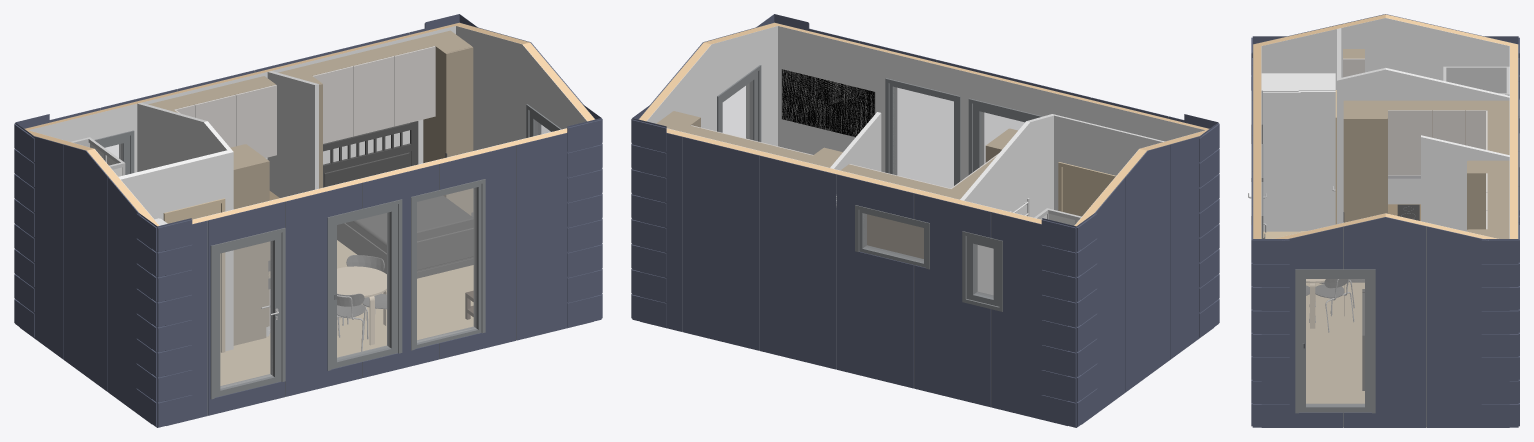
File: Airijaa lovaa.fbx
3 views of the same model, side by side, from view 1: azimuth 30°, elevation 25°; view 2: azimuth 150°, elevation 25°; view 3: azimuth 270°, elevation 25° (orthographic). The views are drawn at different scales.
Parts seen in each view (by area): view 1: IfcBuildingElementProxy/Kampai Kvadratiniai - line based:Mu. (×4), IfcFurnishingElement/Sorento G60(100) (Pakabinama):Sorento . (×4), IfcWindow/Langai (Akrusta):1000x2100x120 (kairinis):2750757, IfcDoor/Durys išorinės:1000x2100x120 (kairinės):2439432, IfcWindow/Langai (Akrusta):1000x2100x120:2761594, IfcPlate/System Panel:Sandwich užbaigimas Multisplit:3006171, IfcPlate/System Panel:Sandwich užbaigimas Multisplit:3006206, IfcPlate/System Panel:Sandwich užbaigimas Multisplit:3006178, IfcFurnishingElement/Lova (BED) IKEA:Full Size - Black/Brown, IfcPlate/System Panel:Sandwich užbaigimas Multisplit:3006174, IfcWall/Part:2397151, IfcSlab/Part:2319985 (+22 smaller); view 2: IfcBuildingElementProxy/Kampai Kvadratiniai - line based:Mu. (×3), IfcPlate/System Panel:Sandwich užbaigimas Multisplit:3006146, IfcPlate/System Panel:Sandwich užbaigimas Multisplit:3006144, IfcWall/Part:2319976, IfcPlate/System Panel:Sandwich užbaigimas Multisplit:3006142, IfcPlate/System Panel:Sandwich užbaigimas Multisplit:3006140, IfcPlate/System Panel:Sandwich užbaigimas Multisplit:3006206, IfcPlate/System Panel:Sandwich užbaigimas Multisplit:3006137, IfcBuildingElementProxy/Kampai Kvadratiniai - line based:Mu, IfcWindow/Langai (Akrusta):1000x2100x120:2761594, IfcWall/Part:2397151, IfcWallStandardCase/Basic Wall:Sandwich - vidines sienos 60m (+17 smaller); view 3: IfcPlate/System Panel:Sandwich užbaigimas Multisplit:3006122, IfcWindow/Langai (Akrusta):1000x2100x120 (kairinis):3004067, IfcFurnishingElement/Ikea spinta:900 x 600 x 2100mm 2:276165, IfcPlate/System Panel:Sandwich užbaigimas Multisplit:3006119, IfcWall/Part:2755461, IfcBuildingElementProxy/Kampai Kvadratiniai - line based:Mu. (×2), IfcBuildingElementProxy/Kampai Kvadratiniai - line based:Mul, IfcFurnishingElement/Sorento D60ZLN (Su šaldytuvu)1:Sorento  (×2), IfcSlab/Part:2319985, IfcWallStandardCase/Basic Wall:Sandwich - vidines sienos 60m, IfcFurnishingElement/Sorento G60(100) (Pakabinama):Sorento G (×3), IfcWallStandardCase/Basic Wall:Sandwich - vidines sienos 60 (+15 smaller).
Boxes of the visible parts, x1,y1,x2,y2 form: IfcBuildingElementProxy/Kampai Kvadratiniai - line based:Mu. (×4): (14, 118, 602, 427); IfcFurnishingElement/Sorento G60(100) (Pakabinama):Sorento . (×4): (183, 37, 435, 157); IfcWindow/Langai (Akrusta):1000x2100x120 (kairinis):2750757: (327, 199, 402, 370); IfcDoor/Durys išorinės:1000x2100x120 (kairinės):2439432: (210, 228, 285, 399); IfcWindow/Langai (Akrusta):1000x2100x120:2761594: (411, 179, 485, 350); IfcPlate/System Panel:Sandwich užbaigimas Multisplit:3006171: (516, 133, 593, 340); IfcPlate/System Panel:Sandwich užbaigimas Multisplit:3006206: (63, 144, 107, 391); IfcPlate/System Panel:Sandwich užbaigimas Multisplit:3006178: (285, 183, 361, 396); IfcFurnishingElement/Lova (BED) IKEA:Full Size - Black/Brown: (323, 121, 473, 278); IfcPlate/System Panel:Sandwich užbaigimas Multisplit:3006174: (439, 145, 516, 359); IfcWall/Part:2397151: (456, 26, 586, 217); IfcSlab/Part:2319985: (220, 240, 473, 385); IfcBuildingElementProxy/Kampai Kvadratiniai - line based:Mu. (×3): (1041, 122, 1219, 427); IfcPlate/System Panel:Sandwich užbaigimas Multisplit:3006146: (682, 137, 759, 350); IfcPlate/System Panel:Sandwich užbaigimas Multisplit:3006144: (760, 155, 836, 369); IfcWall/Part:2319976: (778, 26, 1204, 180); IfcPlate/System Panel:Sandwich užbaigimas Multisplit:3006142: (837, 174, 913, 388); IfcPlate/System Panel:Sandwich užbaigimas Multisplit:3006140: (914, 193, 990, 407); IfcPlate/System Panel:Sandwich užbaigimas Multisplit:3006206: (1125, 144, 1169, 392); IfcPlate/System Panel:Sandwich užbaigimas Multisplit:3006137: (991, 212, 1068, 425); IfcBuildingElementProxy/Kampai Kvadratiniai - line based:Mu: (631, 118, 666, 326); IfcWindow/Langai (Akrusta):1000x2100x120:2761594: (885, 78, 960, 187); IfcWall/Part:2397151: (647, 26, 777, 146); IfcWallStandardCase/Basic Wall:Sandwich - vidines sienos 60m: (960, 114, 1055, 294); IfcPlate/System Panel:Sandwich užbaigimas Multisplit:3006122: (1343, 217, 1426, 427); IfcWindow/Langai (Akrusta):1000x2100x120 (kairinis):3004067: (1295, 269, 1375, 413); IfcFurnishingElement/Ikea spinta:900 x 600 x 2100mm 2:276165: (1261, 73, 1335, 231); IfcPlate/System Panel:Sandwich užbaigimas Multisplit:3006119: (1427, 226, 1509, 427); IfcWall/Part:2755461: (1261, 18, 1509, 89); IfcBuildingElementProxy/Kampai Kvadratiniai - line based:Mu. (×2): (1251, 224, 1289, 427); IfcBuildingElementProxy/Kampai Kvadratiniai - line based:Mul: (1481, 239, 1518, 427); IfcFurnishingElement/Sorento D60ZLN (Su šaldytuvu)1:Sorento  (×2): (1343, 100, 1509, 229); IfcSlab/Part:2319985: (1263, 231, 1364, 403); IfcWallStandardCase/Basic Wall:Sandwich - vidines sienos 60m: (1337, 68, 1509, 224); IfcFurnishingElement/Sorento G60(100) (Pakabinama):Sorento G (×3): (1388, 100, 1487, 175); IfcWallStandardCase/Basic Wall:Sandwich - vidines sienos 60: (1421, 135, 1509, 231).
Size of the model in its own units: 654 by 315 by 369.
